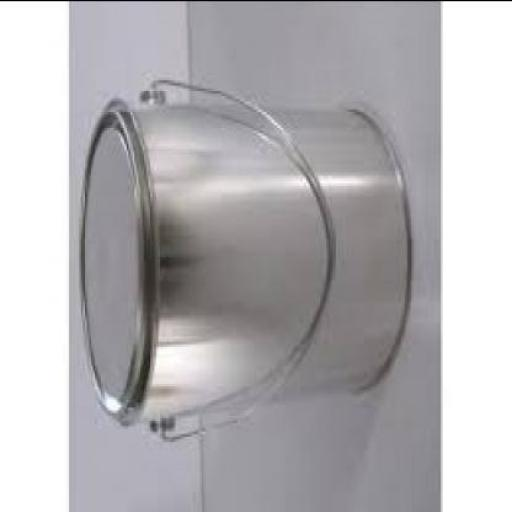metal: (78, 82, 414, 444)
